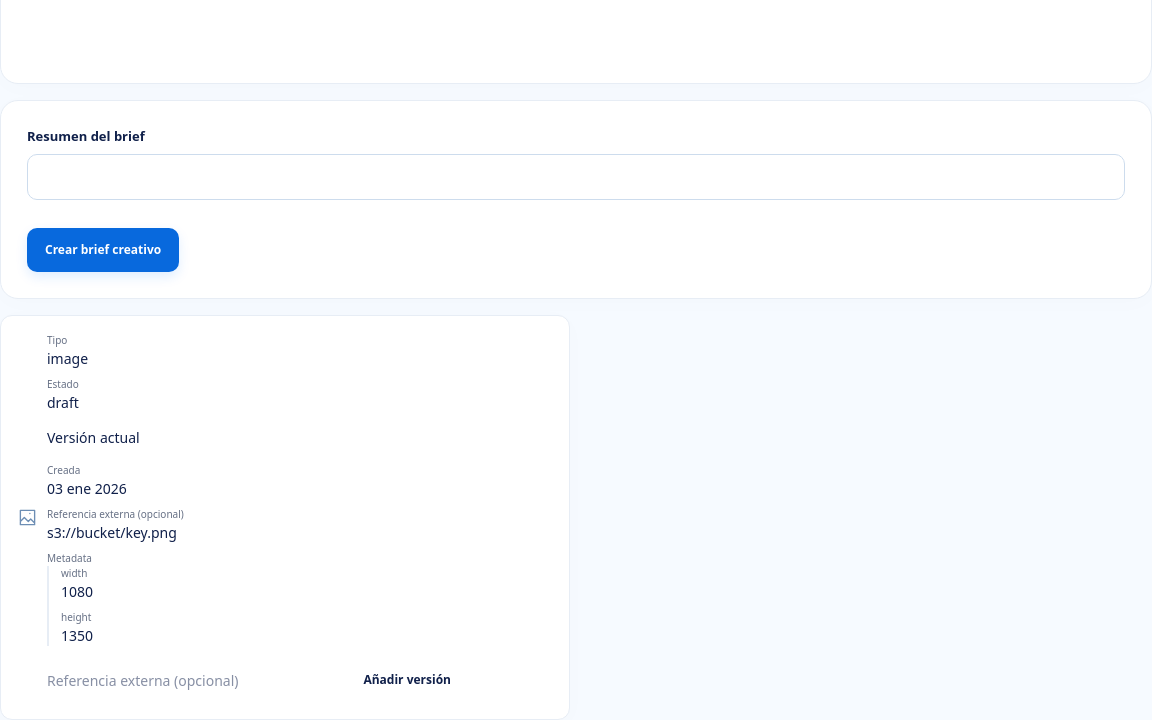
Test: ContentAssetsSection › replaces local state with the server response after a successful version append
This screenshot has width=1152, height=720.
(page scrolled)
Expected: the text "image" is shown, [47, 349, 88, 368]
In the field with placeholder "Referencia externa (opcional)": x=148, y=680 [47, 658, 249, 702], type "https://example.com/v2.png"
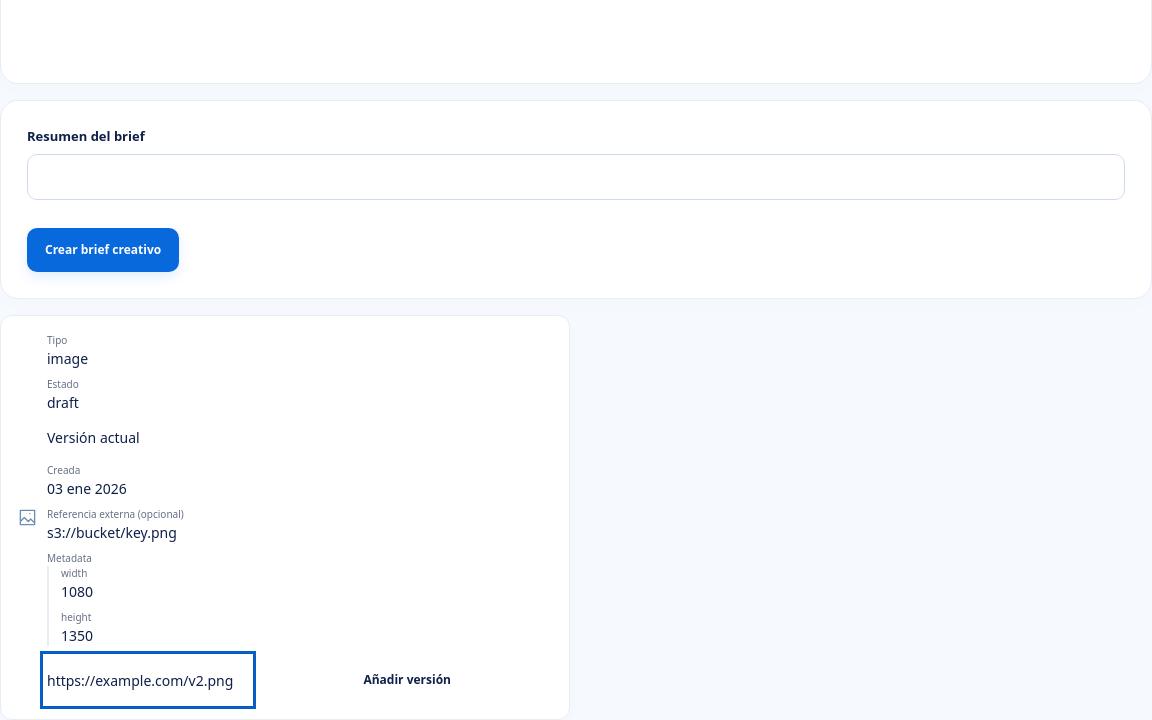
Click the button "Añadir versión": x=407, y=680 [346, 658, 469, 702]
(page scrolled)
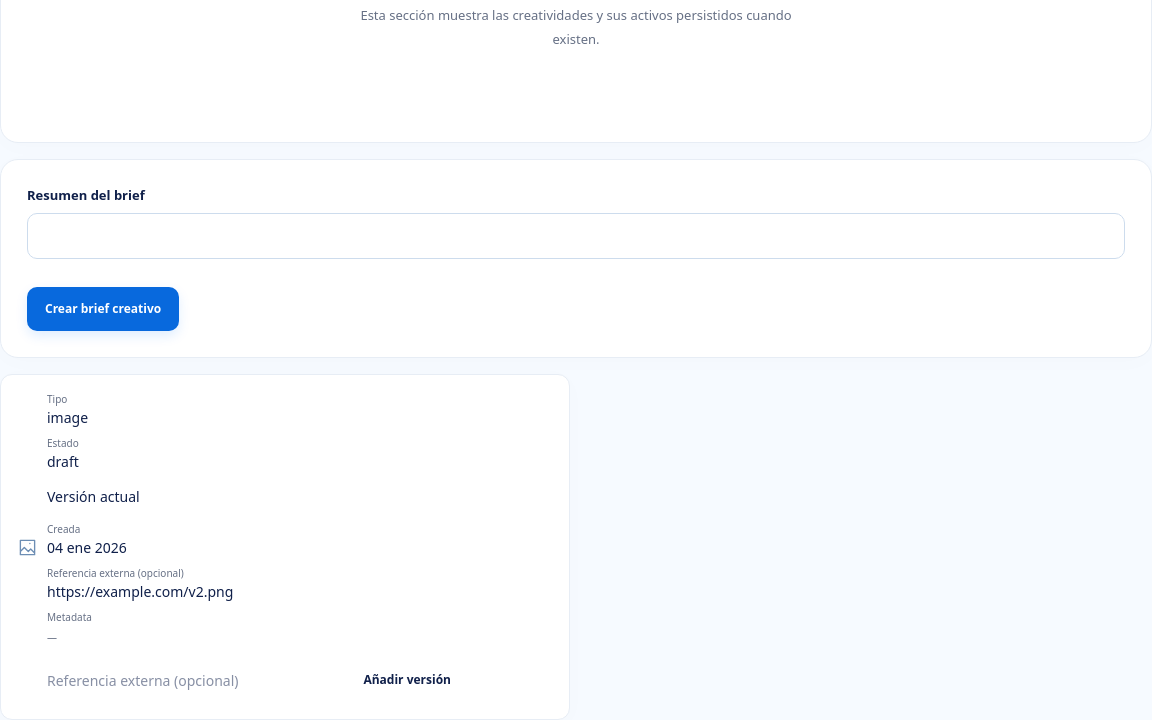
Result: the text "https://example.com/v2.png" is shown at [47, 582, 233, 601]
